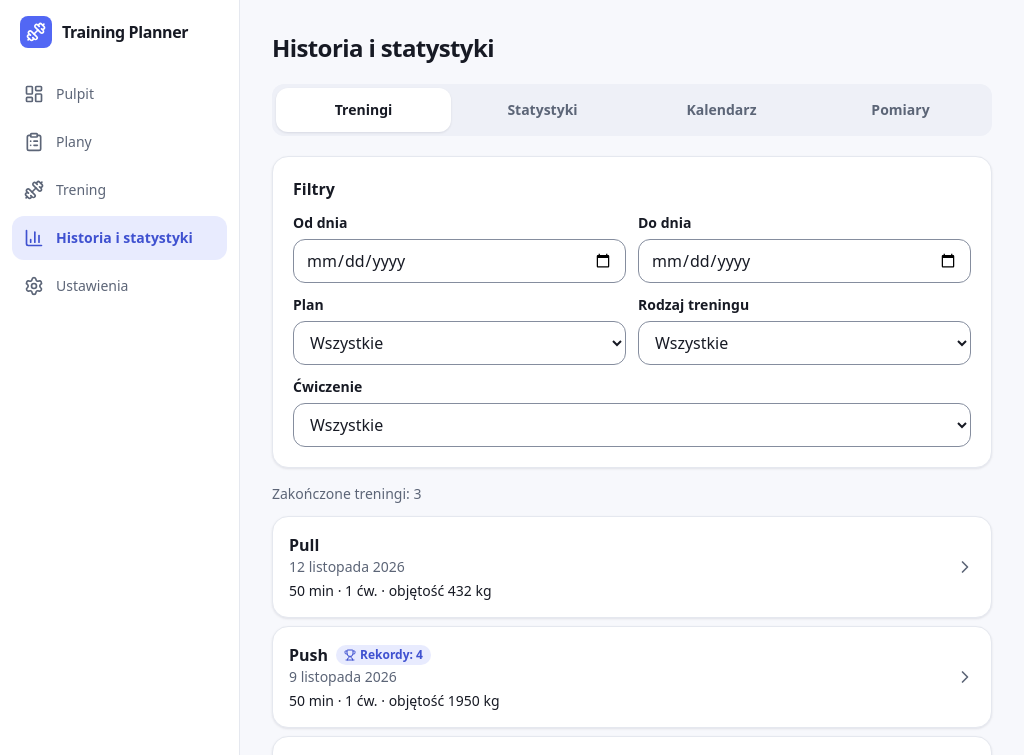
it: history › says so when no workout matches the filters
Type "2027-01-01" into the date field labelled "Od dnia" at point(460, 261), box left=293, top=239, right=626, bottom=283
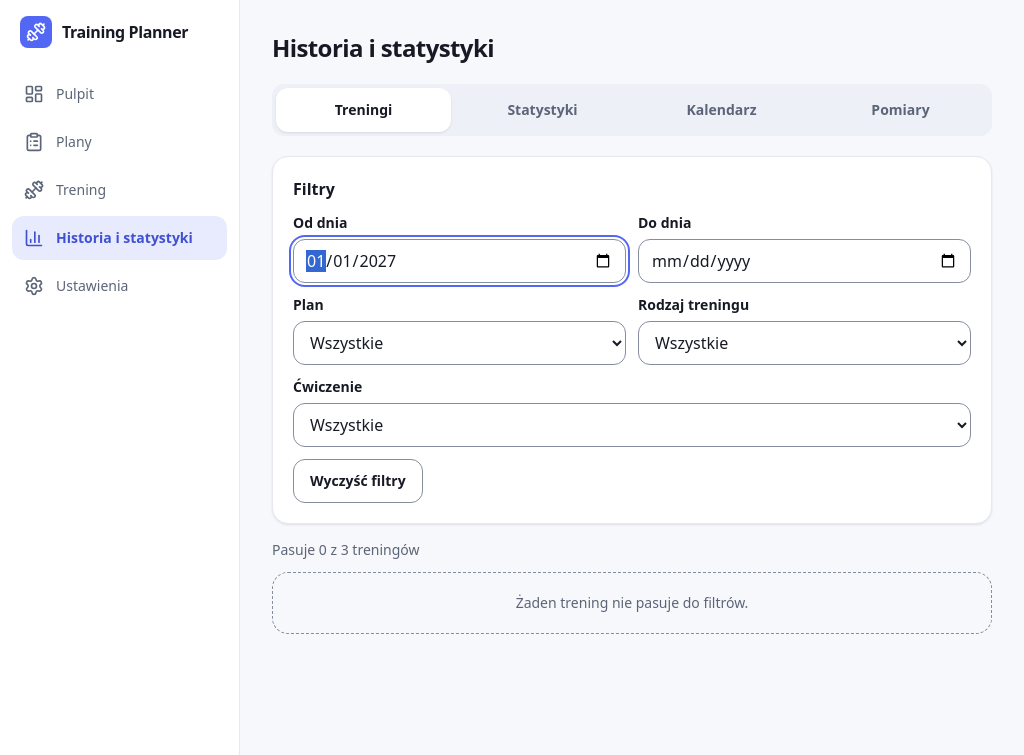
Expected: the text "Żaden trening nie pasuje do filtrów." is shown, left=272, top=572, right=992, bottom=634
